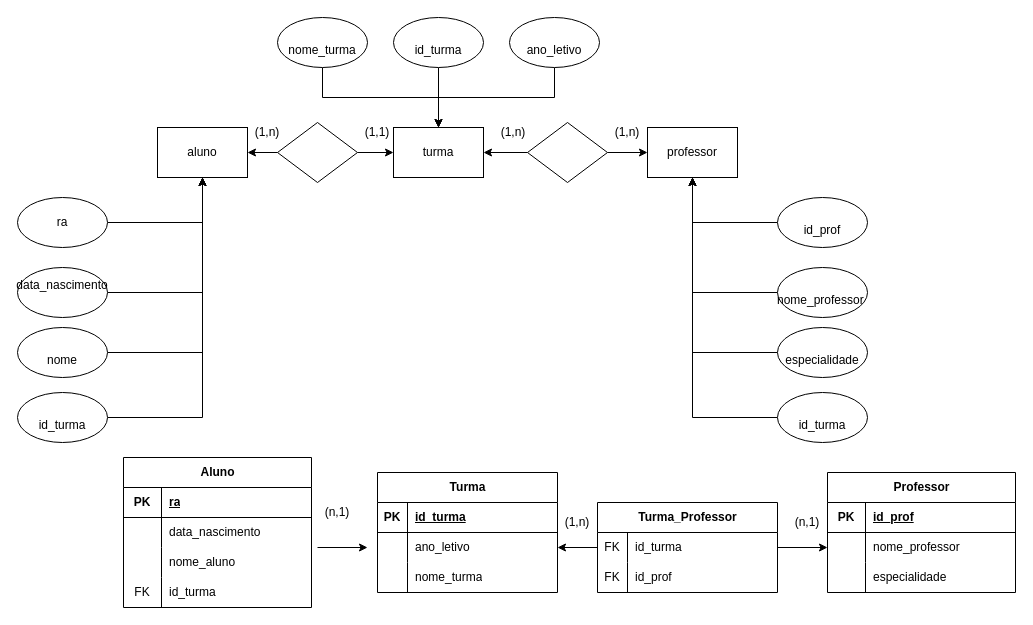
Image size: 1033x625. Some labels were removed from this diagram. Here are the shapes that lost their labels. From the top down, the centre of each, then its label:
At [317,152]: "matrícula".
At [567,152]: "leciona".
